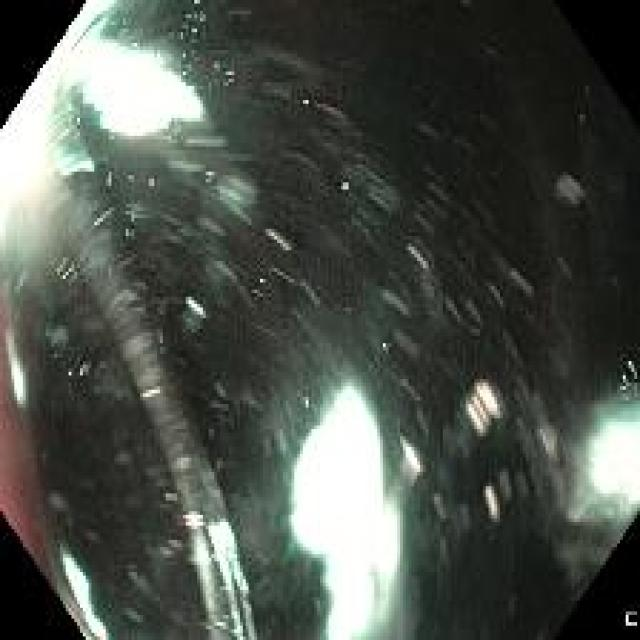saturation: (1, 2, 116, 251)
specularity: (285, 382, 407, 639), (77, 65, 206, 140), (581, 400, 637, 508), (61, 543, 109, 638), (206, 520, 249, 594), (5, 334, 29, 403), (179, 509, 206, 531)
